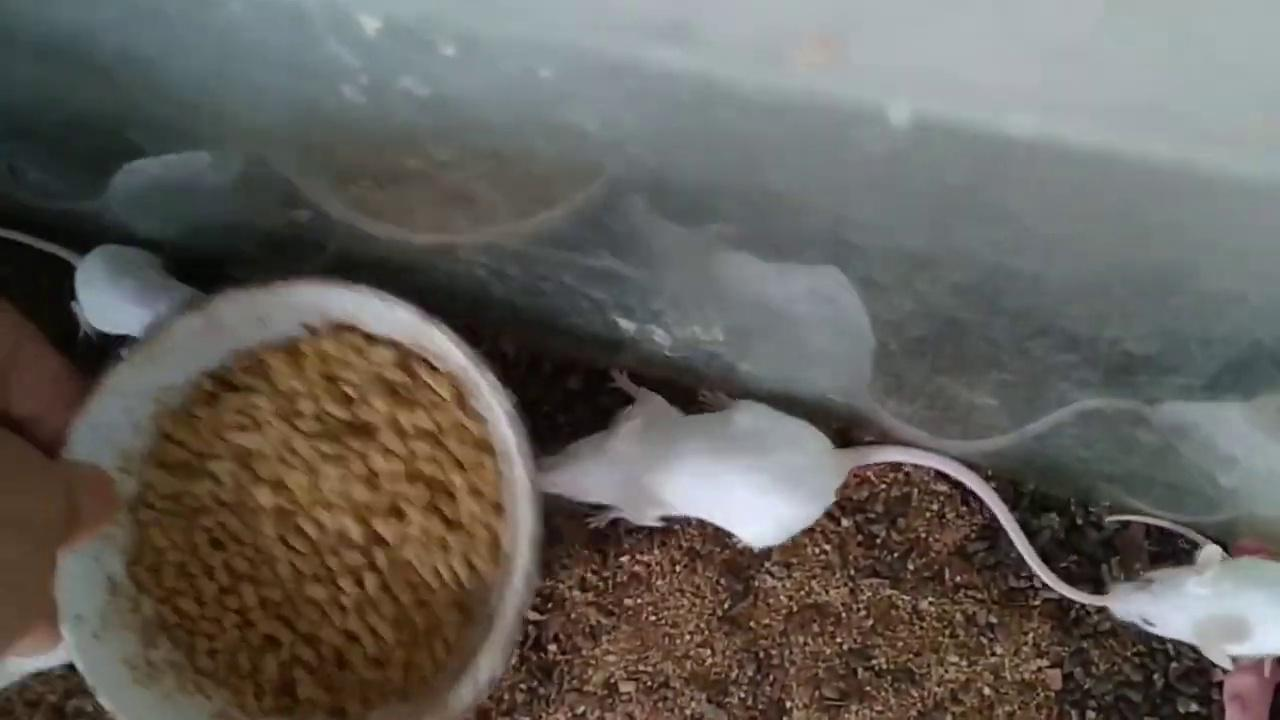rat: (537, 369, 1107, 605), (0, 232, 210, 340), (1107, 543, 1280, 671)
